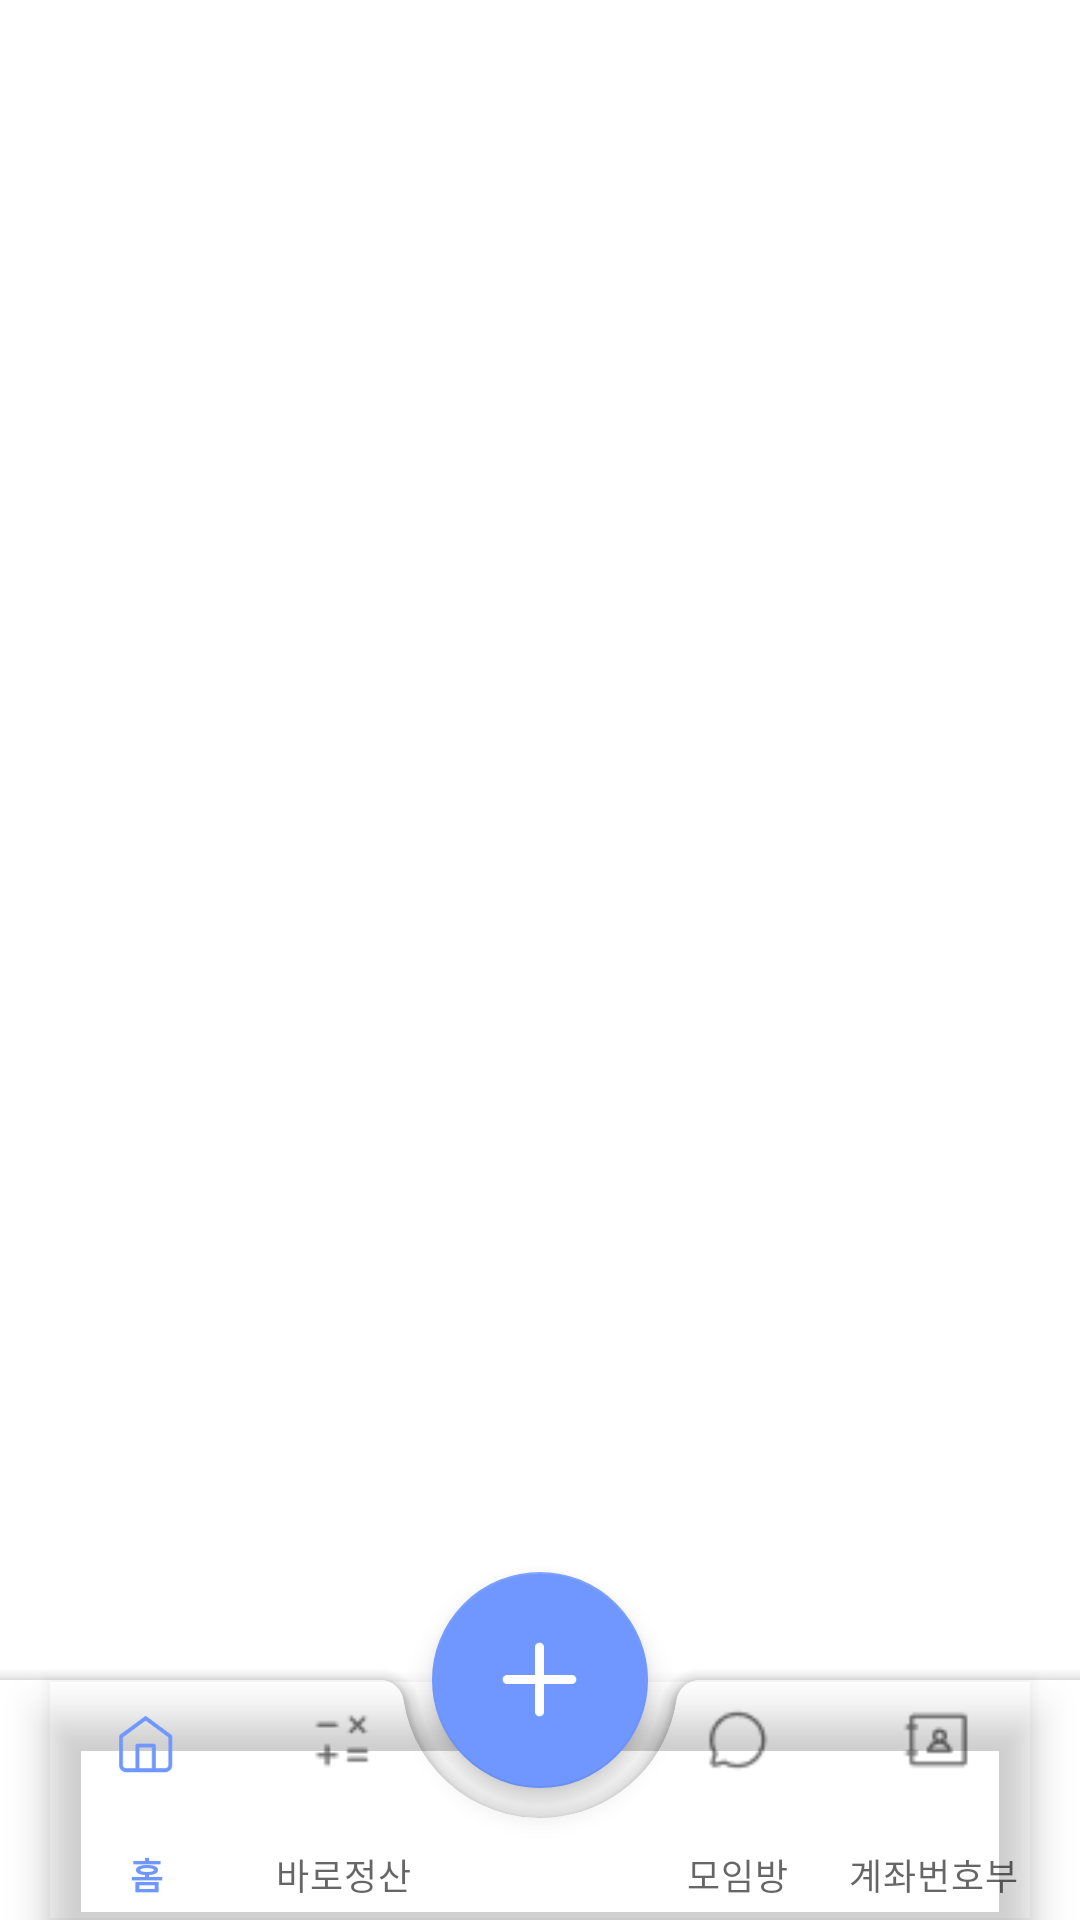

Named icons in this screenshot (1080*1920) and their bounding boxes, (x1, y1, x2, y2):
plus: (432, 1572, 648, 1788)
